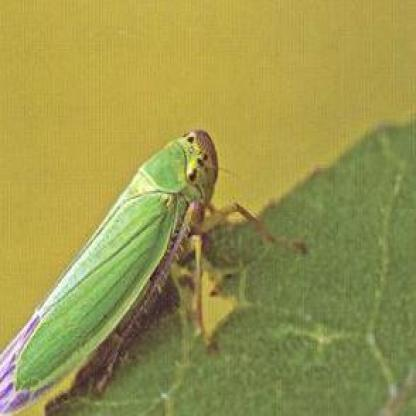Green-Leafhopper: (1, 121, 304, 416)
